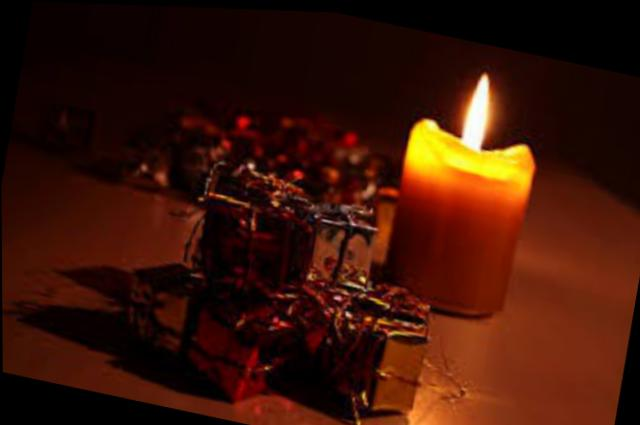fire: (454, 60, 498, 148)
